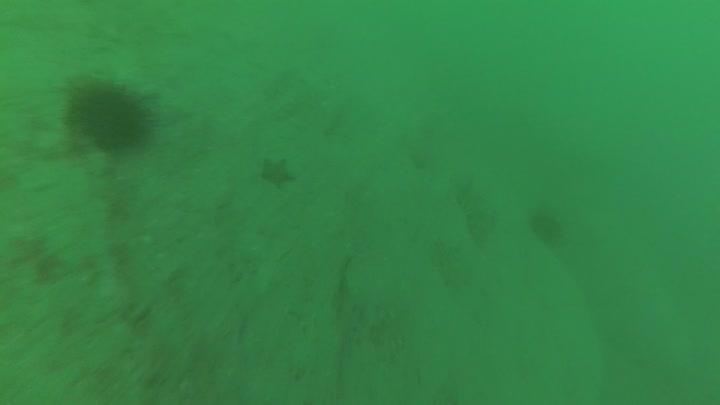echinus: (61, 74, 159, 156), (525, 205, 567, 249)
holothurian: (450, 174, 497, 247)
starfish: (256, 153, 299, 190)
